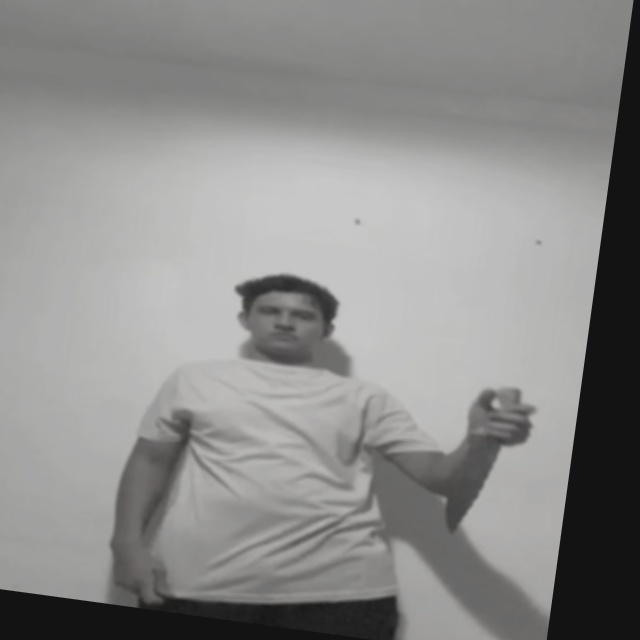Sharp-Object: (438, 433, 499, 537)
